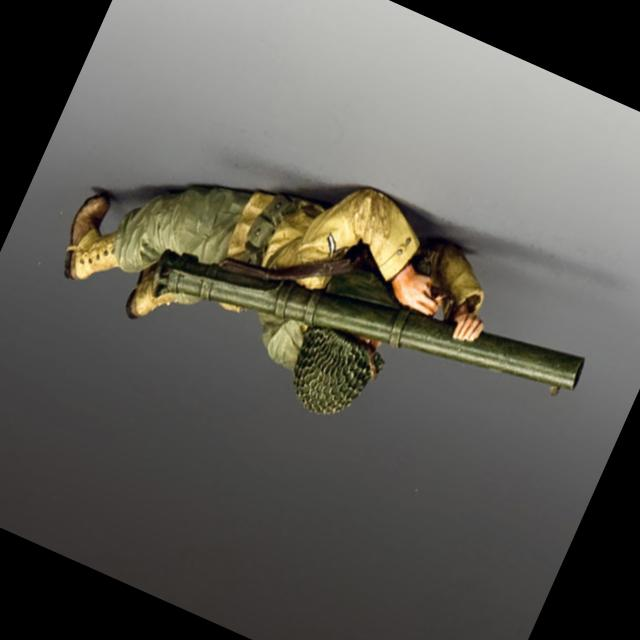Weapon: (136, 158, 610, 482)
